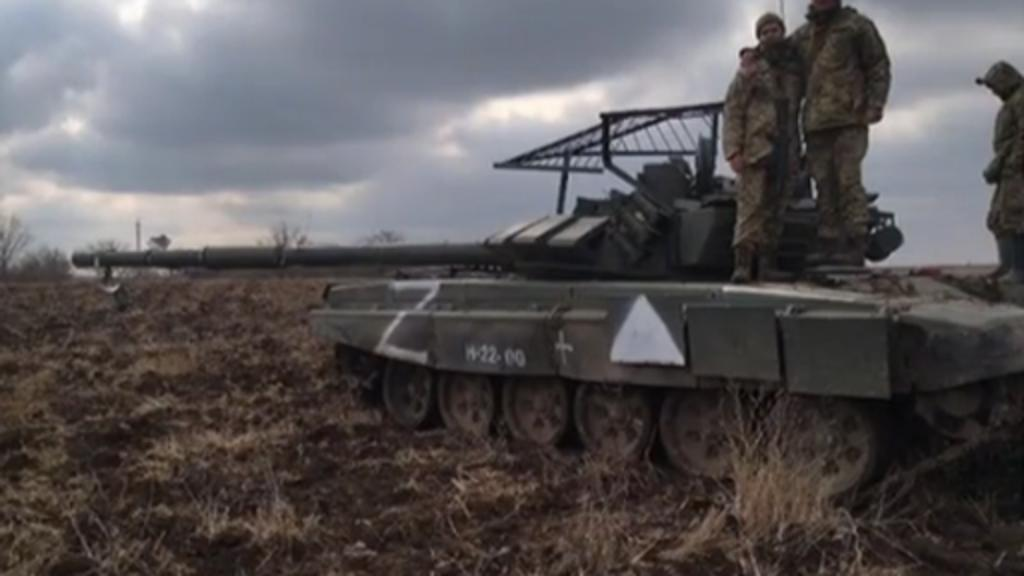TANK: (54, 126, 1022, 498)
